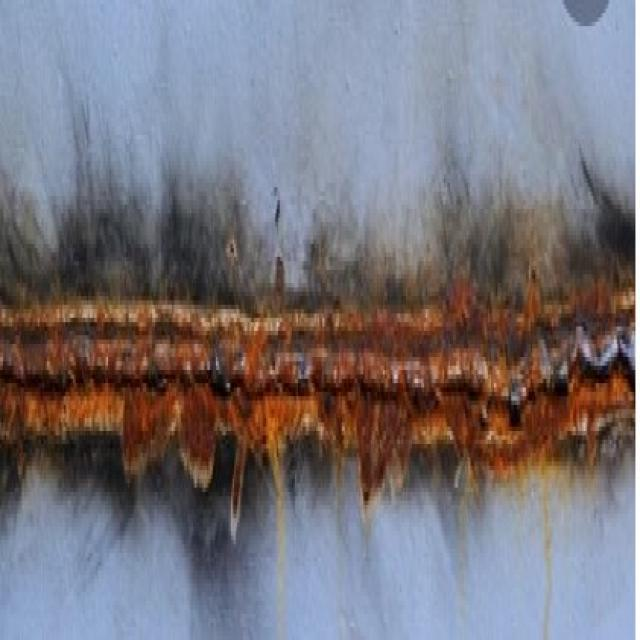Bad Welding: (0, 294, 635, 530)
